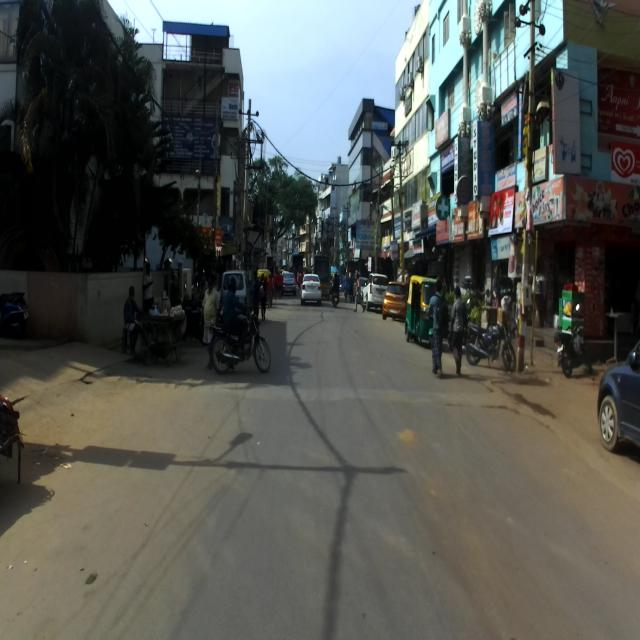electric pole ahead at: (512, 0, 550, 386)
motorcycle ahead at: (210, 279, 272, 385)
